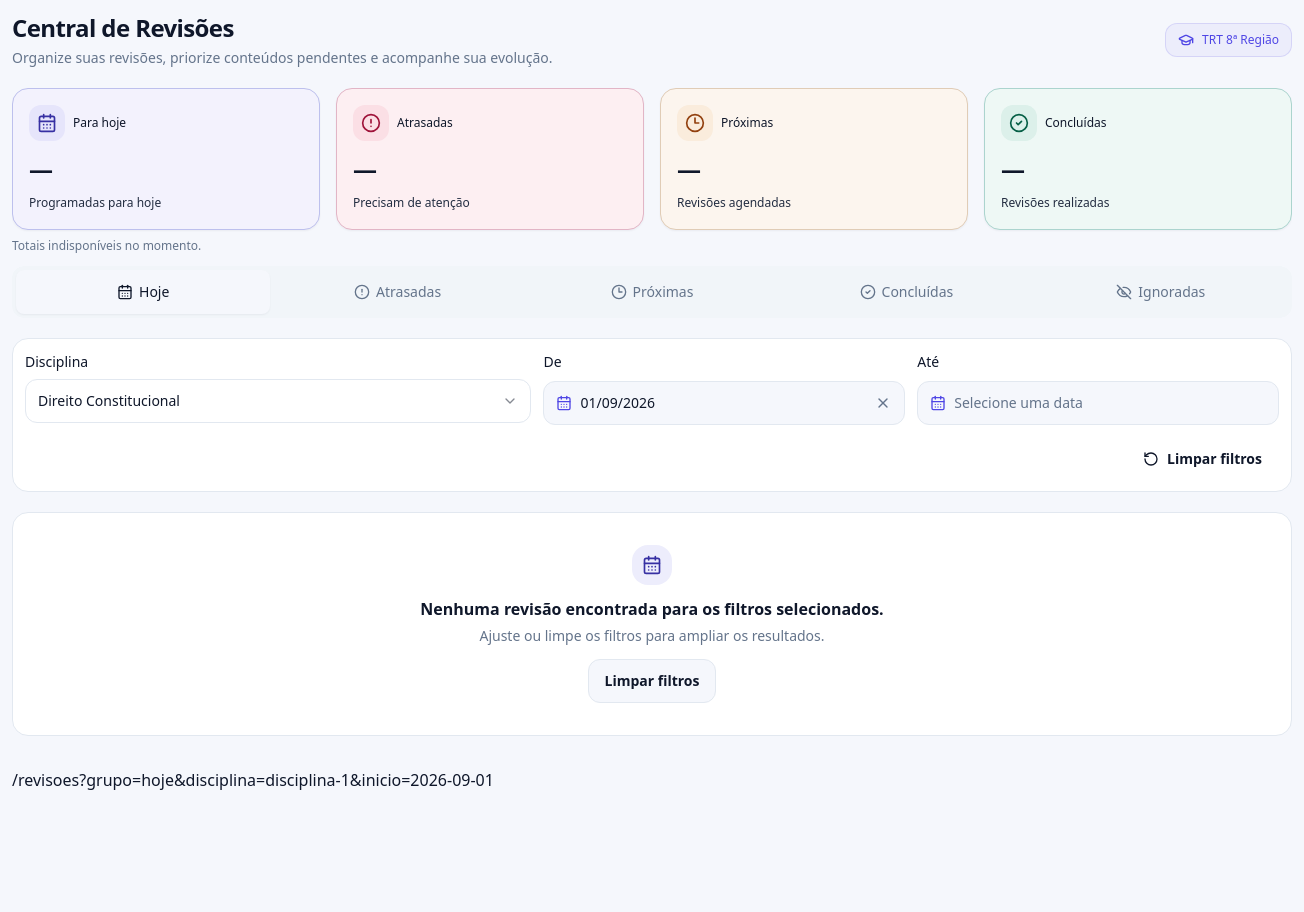
Test case: Revisoes › diferencia filtros sem resultados e remove os filtros da URL
The image size is (1304, 912).
Expected: the heading "Nenhuma revisão encontrada para os filtros selecionados." is shown, [420,596,884,620]
Click the button "Limpar filtros" below "Até".
click(1202, 458)  # box [1126,436,1279,480]
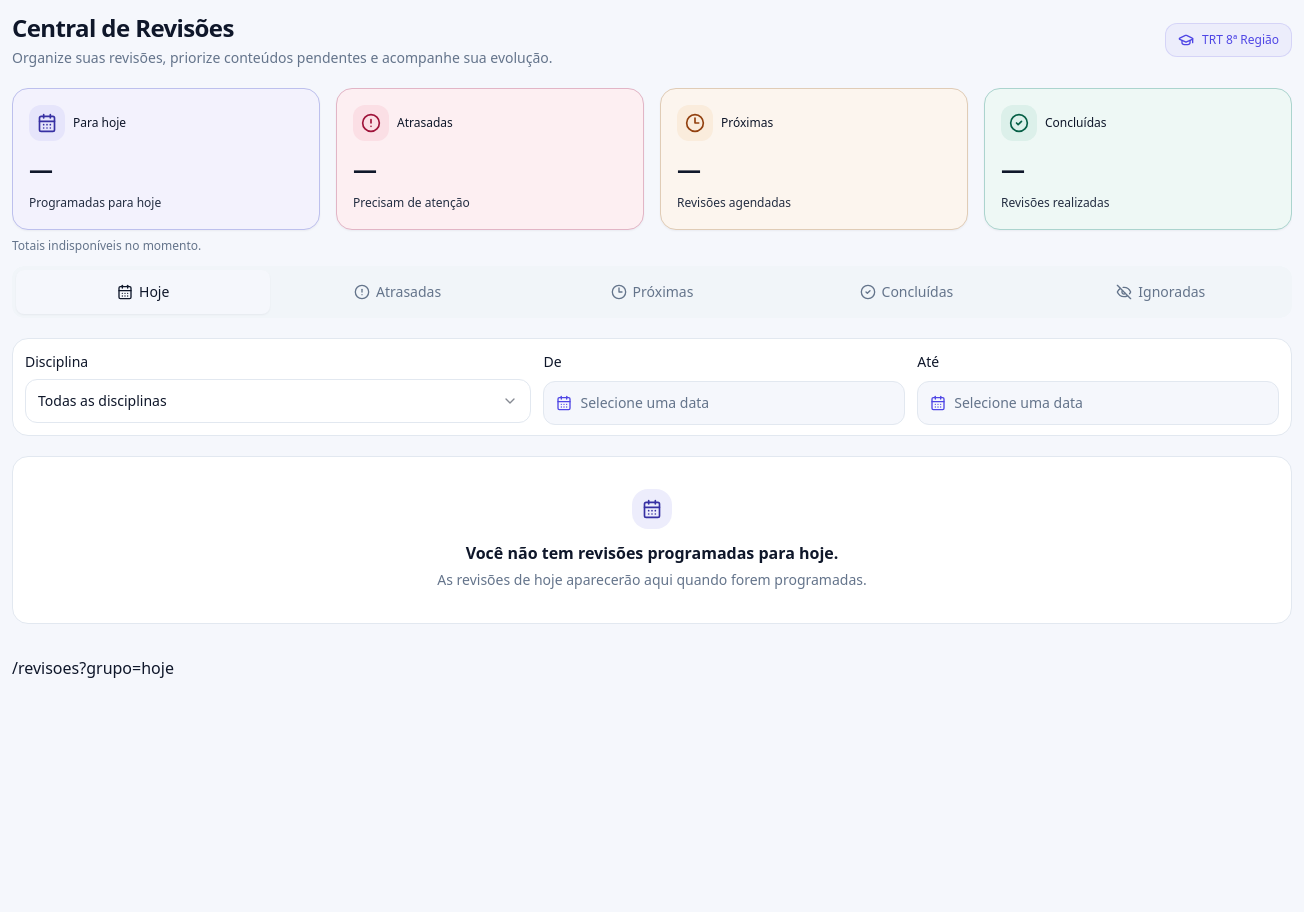
Now the text with test id "location" reads "/revisoes?grupo=hoje", box [12,657,174,679]
Now the text with test id "location" no longer shows "disciplina=", box [12,657,174,679]
